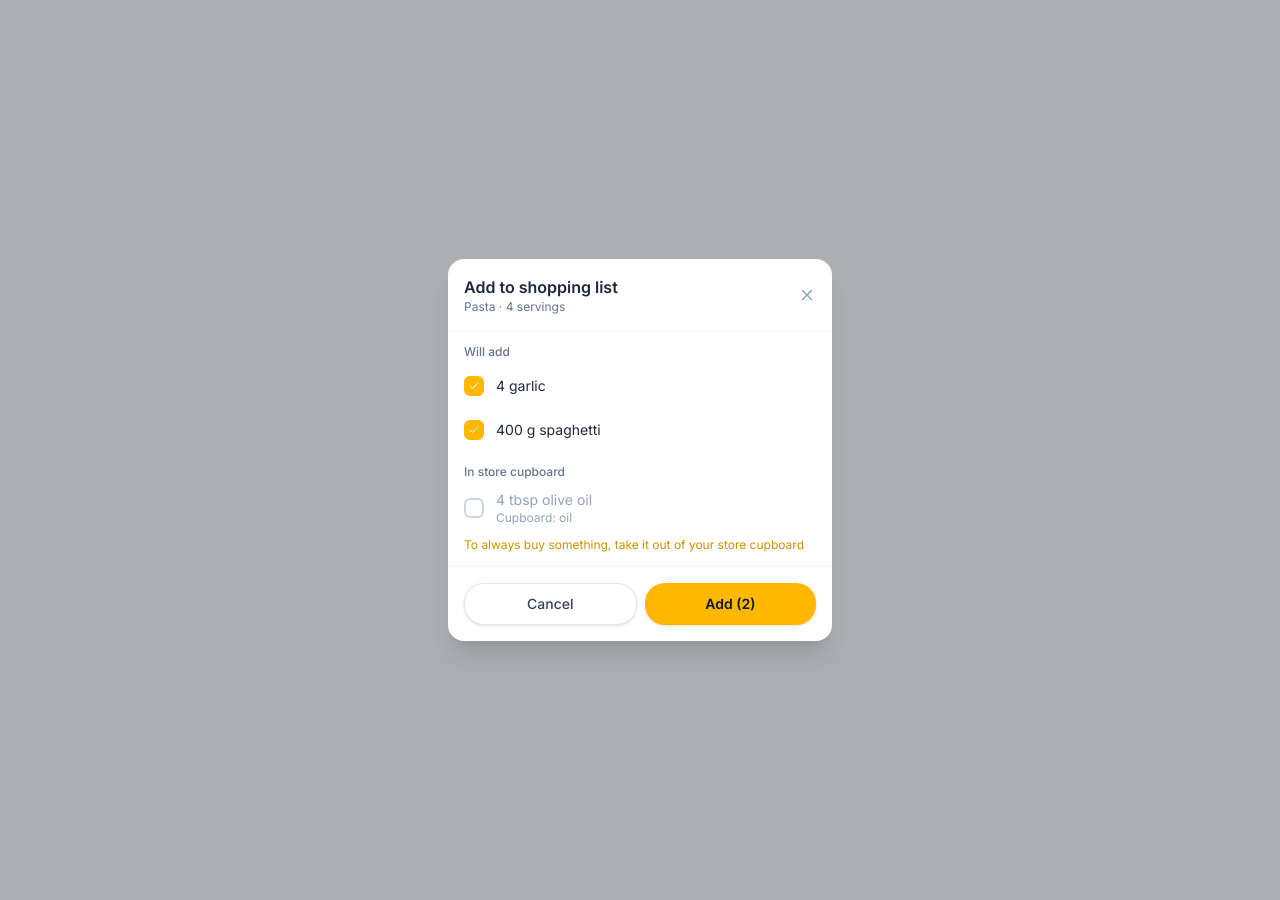
AddMealPreviewModal › cannot add with everything unticked
Click the checkbox labelled "4 garlic" at (521, 385), box [464,364,816,408]
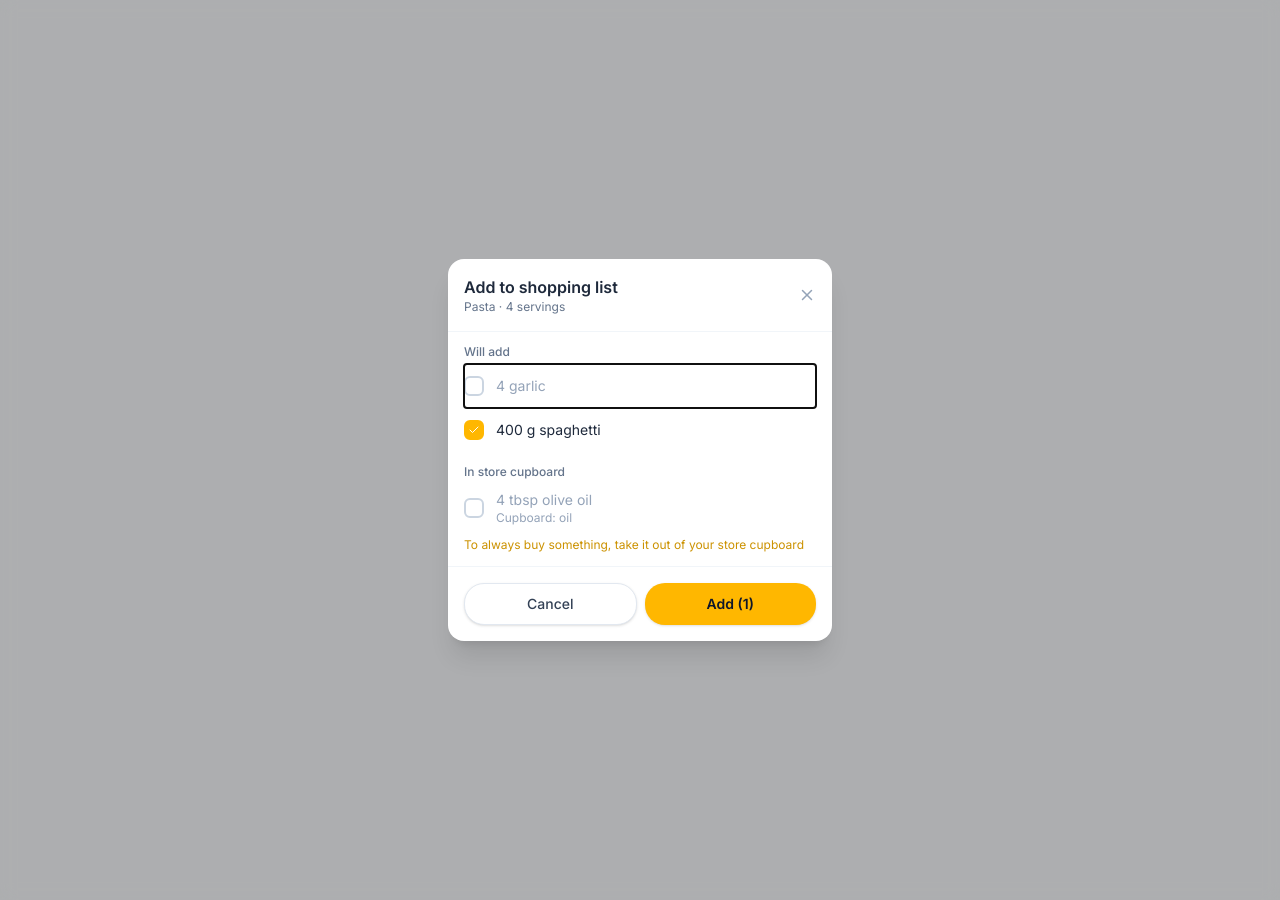
Click the checkbox labelled "400 g spaghetti" at (548, 429), box [464,408,816,452]
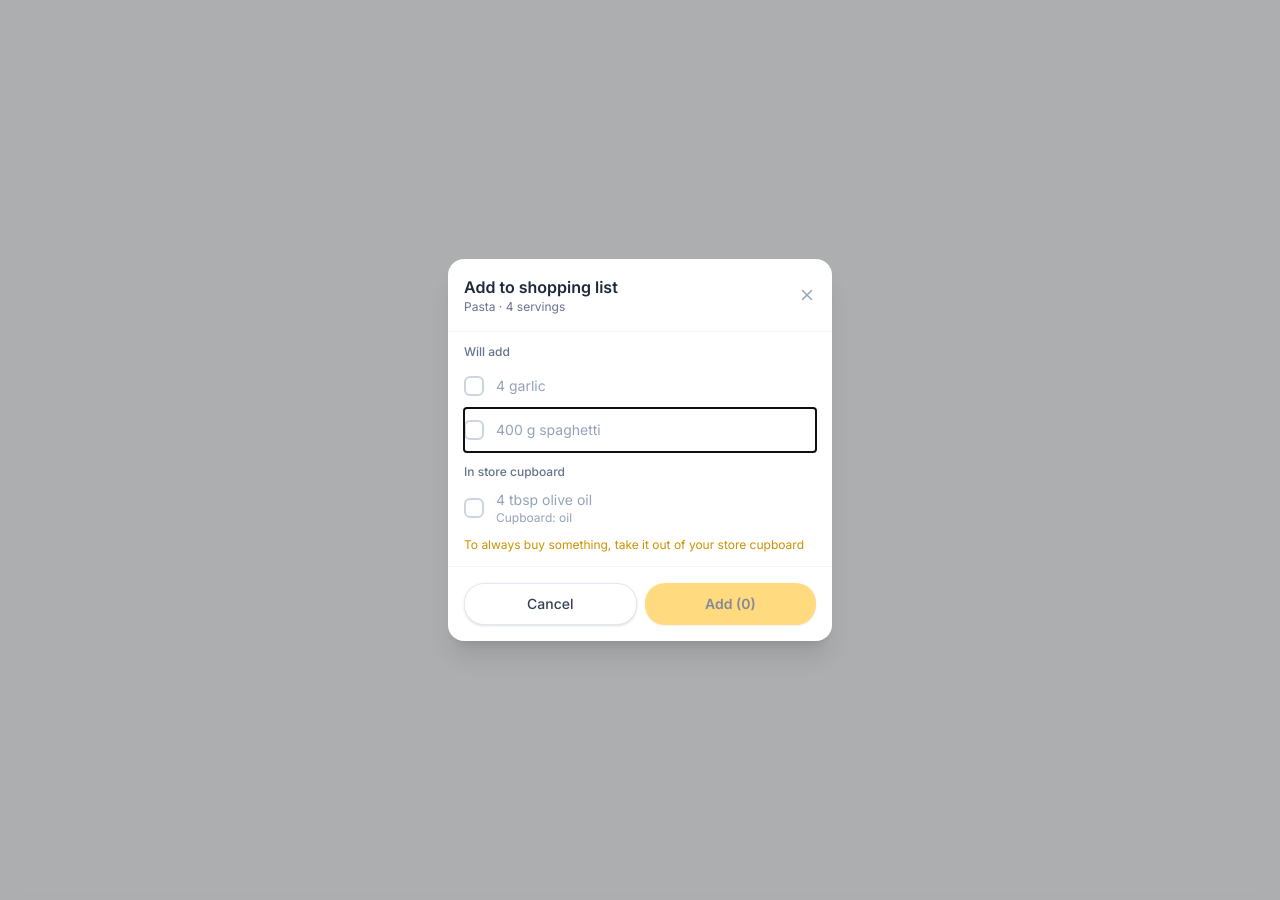
Check: the button "Add (0)" is disabled, box [645,583,816,625]
